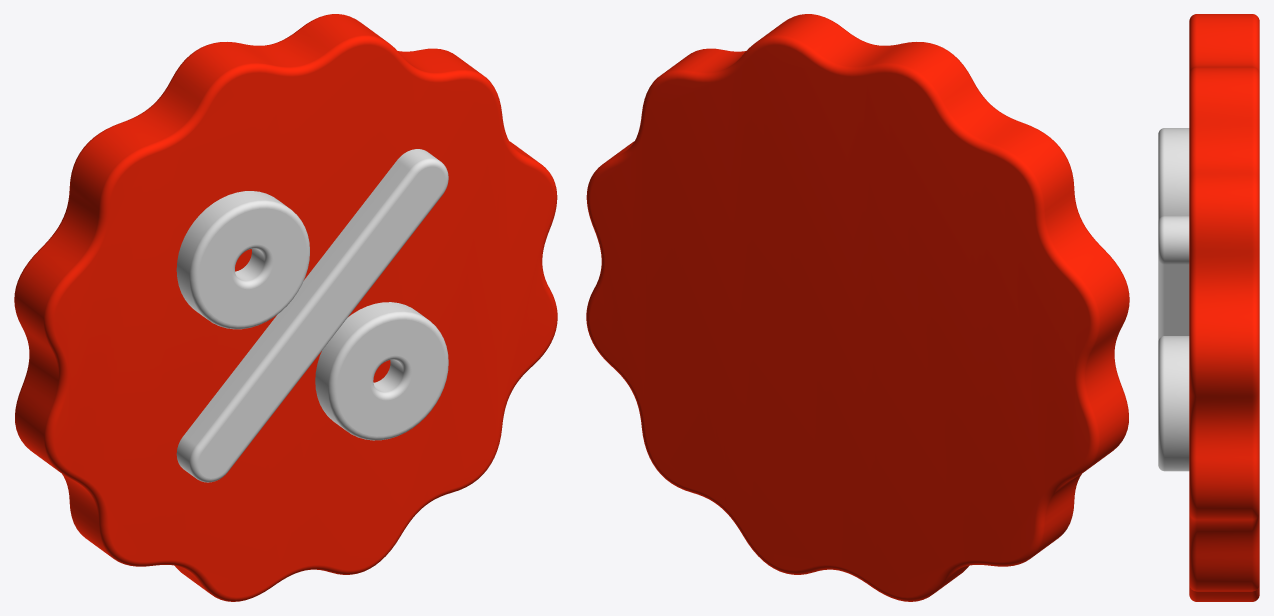
File: discount_2.glb
The picture shows the model from 3 angles, left to right: view 1: azimuth 30°, elevation 25°; view 2: azimuth 150°, elevation 25°; view 3: azimuth 270°, elevation 25°; orthographic projection. The views are drawn at different scales.
Parts seen in each view (by area): view 1: Curve, Curve.002; view 2: Curve; view 3: Curve, Curve.002.
Boxes of the visible parts, x1,y1,x2,y2 form: Curve: [14, 14, 557, 601]; Curve.002: [176, 149, 448, 482]; Curve: [586, 14, 1129, 601]; Curve: [1189, 14, 1259, 601]; Curve.002: [1158, 128, 1189, 471].
Bounding box in the file's own units: 19.31 × 19.31 × 3.38.
